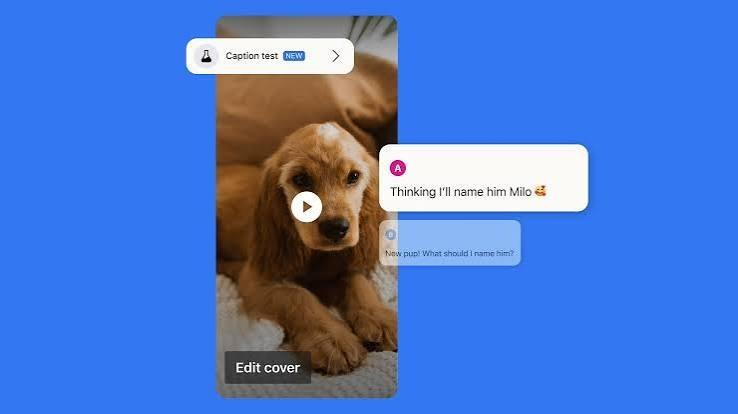puppy-dog: (214, 118, 400, 376)
